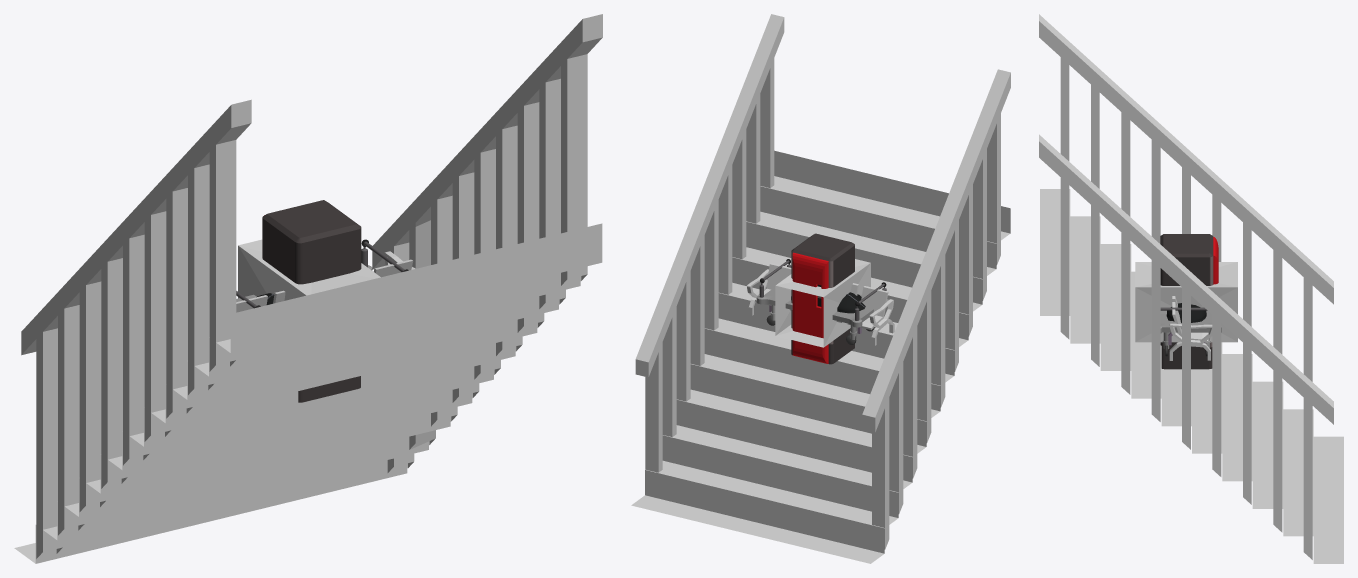
Rendered from hospitalHallPart02.fbx.
3 views of the same model, side by side, from view 1: azimuth 30°, elevation 25°; view 2: azimuth 150°, elevation 25°; view 3: azimuth 270°, elevation 25° (orthographic). The views are drawn at different scales.
Parts seen in each view (by area): view 1: hospitalStairs, hospitalPopMachine, hospitalAirPipe, hospitalBench; view 2: hospitalStairs, hospitalPopMachine, hospitalAirPipe, hospitalBench, hospitalStretcher; view 3: hospitalStairs, hospitalAirPipe, hospitalPopMachine, hospitalBench, hospitalStretcher.
Boxes of the visible parts, x1,y1,x2,y2 form: hospitalStairs: (14,14,602,563); hospitalPopMachine: (262,200,361,402); hospitalAirPipe: (238,239,380,300); hospitalBench: (236,251,415,312); hospitalStairs: (631,14,1010,563); hospitalPopMachine: (791,233,854,364); hospitalAirPipe: (775,259,870,347); hospitalBench: (747,263,894,345); hospitalStretcher: (756,259,888,344); hospitalStairs: (1039,14,1343,563); hospitalAirPipe: (1135,262,1237,342); hospitalPopMachine: (1160,234,1218,369); hospitalBench: (1169,296,1212,360); hospitalStretcher: (1160,307,1221,356).
Bounding box in the file's own units: 495 × 767 × 502.
